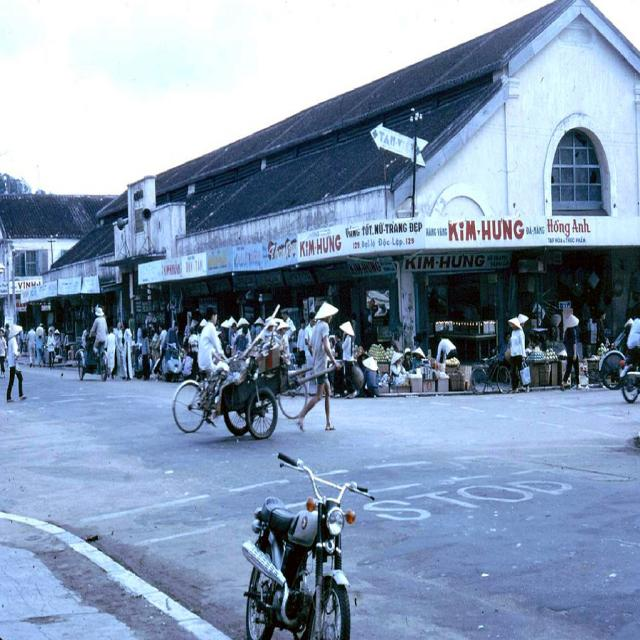Passenger Car: (232, 443, 360, 640)
Pedestrians: (301, 301, 348, 437), (4, 315, 30, 414), (507, 309, 532, 394)
